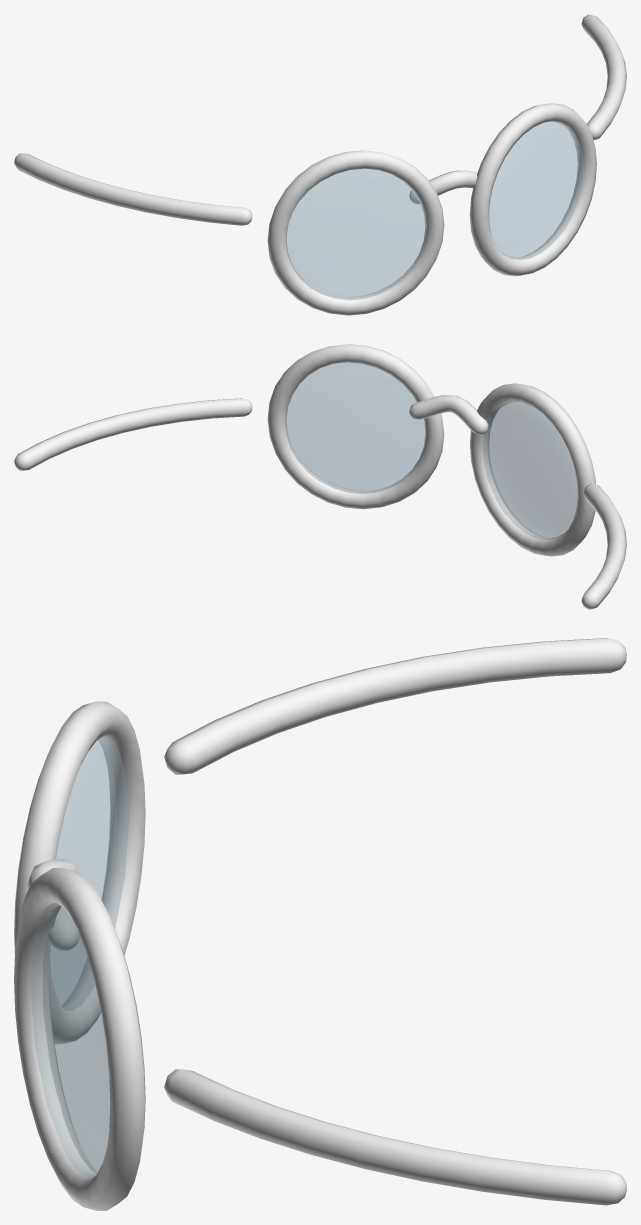
Rendered from round_glasses.glb.
3 renders of one model, top to bottom at view 1: azimuth 30°, elevation 25°; view 2: azimuth 150°, elevation 25°; view 3: azimuth 270°, elevation 25°, orthographic. The views are drawn at different scales.
Parts seen in each view (by area): view 1: round_glasses; view 2: round_glasses; view 3: round_glasses.
Part boxes in pixels (left/top/right/bottom): round_glasses: left=14, top=14, right=626, bottom=315; round_glasses: left=14, top=344, right=626, bottom=609; round_glasses: left=14, top=638, right=626, bottom=1210.
Bounding box in the file's own units: 1.04 × 0.2785 × 0.4937.
